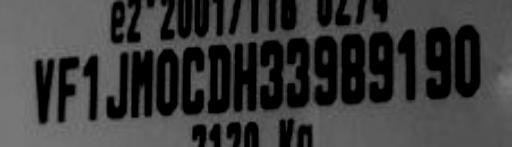letter: (452, 22, 484, 101), (422, 24, 452, 101), (230, 38, 260, 115), (282, 36, 312, 109), (394, 24, 420, 103), (366, 28, 394, 101), (340, 32, 368, 105), (312, 34, 340, 107), (256, 38, 284, 111), (178, 43, 206, 116), (154, 44, 180, 121), (204, 41, 230, 114), (54, 52, 80, 125), (104, 50, 130, 121), (129, 47, 153, 120), (79, 52, 103, 123), (32, 56, 56, 123)
